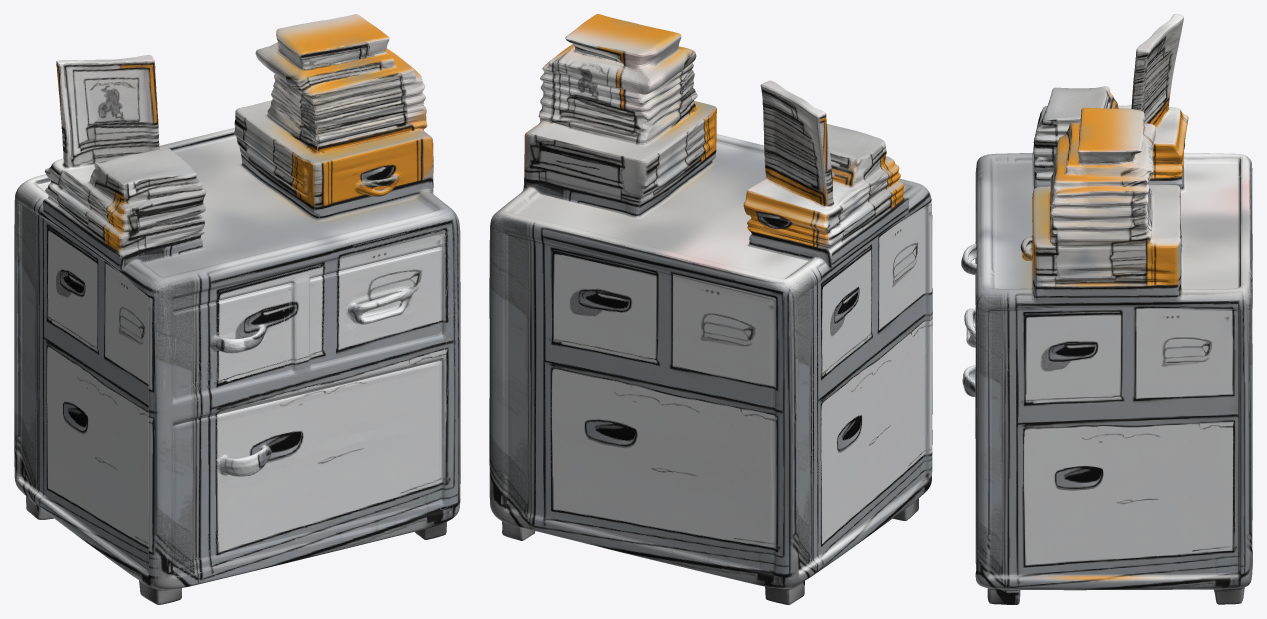
Rendered from filing.glb.
3 renders of one model, left to right at view 1: azimuth 30°, elevation 25°; view 2: azimuth 150°, elevation 25°; view 3: azimuth 270°, elevation 25°, orthographic. The views are drawn at different scales.
Parts seen in each view (by area): view 1: filing; view 2: filing; view 3: filing.
Part boxes in pixels (bbox=[...]): filing: bbox=[14, 14, 460, 604]; filing: bbox=[489, 14, 932, 604]; filing: bbox=[961, 14, 1252, 604].
Size of the model in its own units: 0.6875 by 0.9787 by 0.5681.
1 material, 1 textured.
